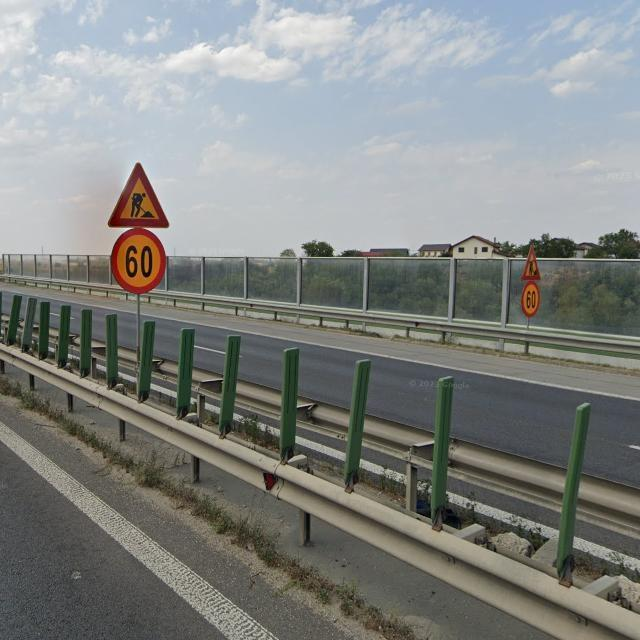forb_speed_over_60: (111, 228, 166, 294), (522, 282, 540, 318)
